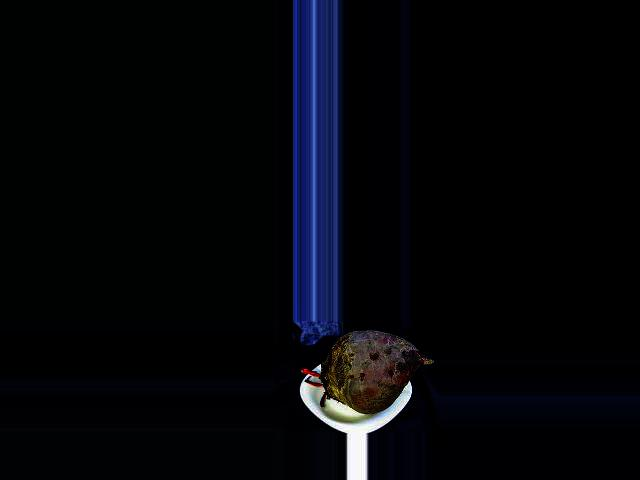beet: (300, 331, 433, 414)
